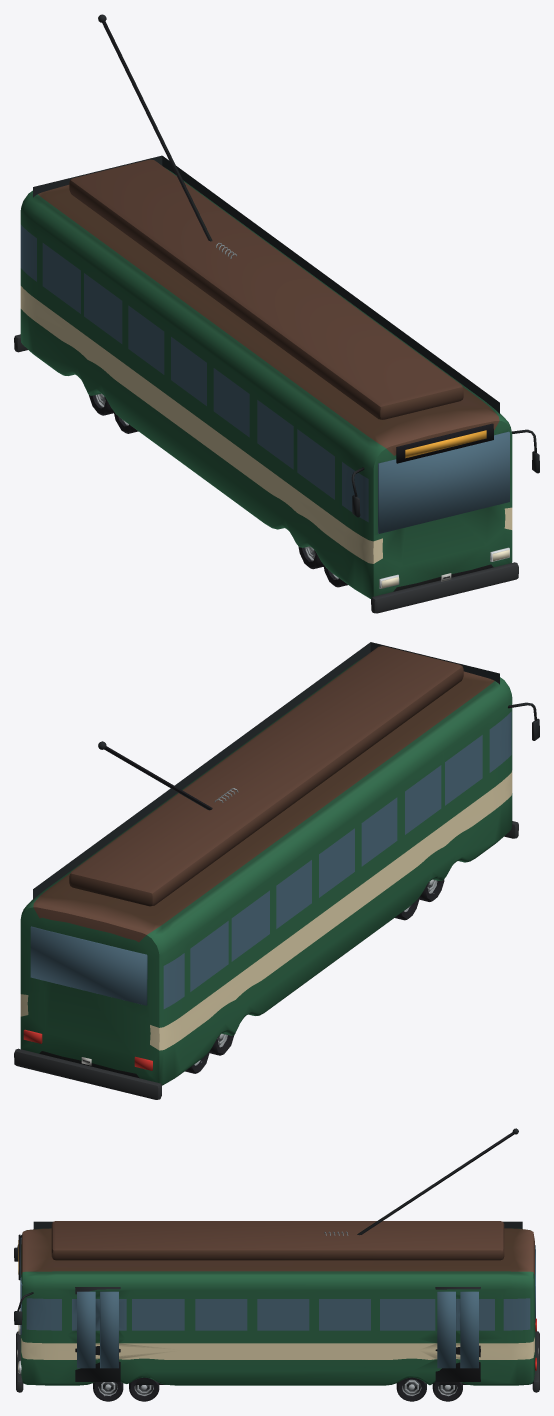
The model's file is veh-tram.glb.
The picture shows the model from 3 angles, top to bottom: view 1: azimuth 30°, elevation 25°; view 2: azimuth 150°, elevation 25°; view 3: azimuth 270°, elevation 25°; orthographic projection. The views are drawn at different scales.
Visible parts, largest first — view 1: body; view 2: body; view 3: body, wheel4, wheel2, wheel0, wheel6.
Boxes of the visible parts, x1,y1,x2,y2 form: body: (14,14,539,613); body: (14,642,539,1099); body: (14,1128,539,1392); wheel4: (396,1377,426,1401); wheel2: (129,1377,159,1401); wheel0: (93,1382,123,1401); wheel6: (432,1382,462,1401).
Bounding box in the file's own units: 2.99 × 5.47 × 10.22.
